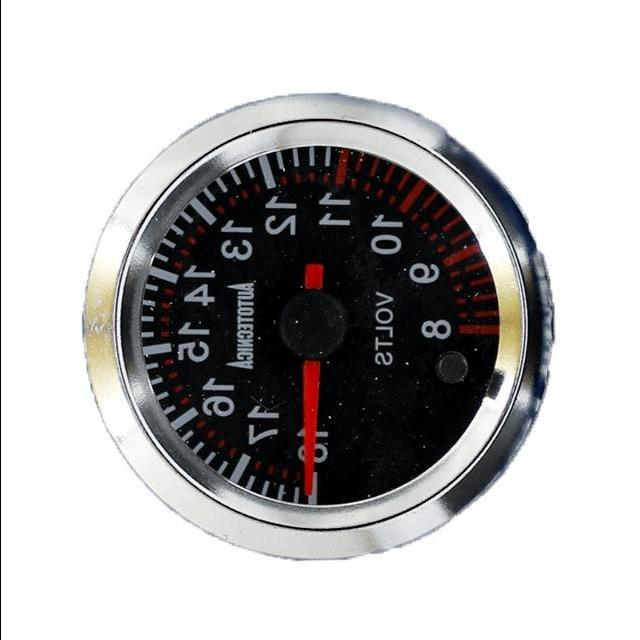Needle_Tip: (290, 453, 327, 517)
Needle_base: (266, 268, 363, 381)
max_value: (286, 422, 342, 481)
min_value: (398, 302, 471, 359)
